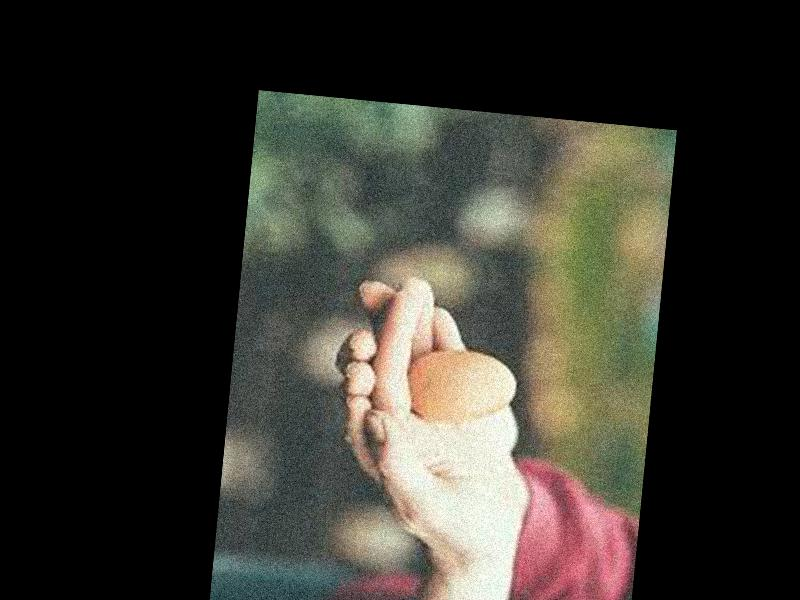Eggs: (406, 346, 518, 427)
